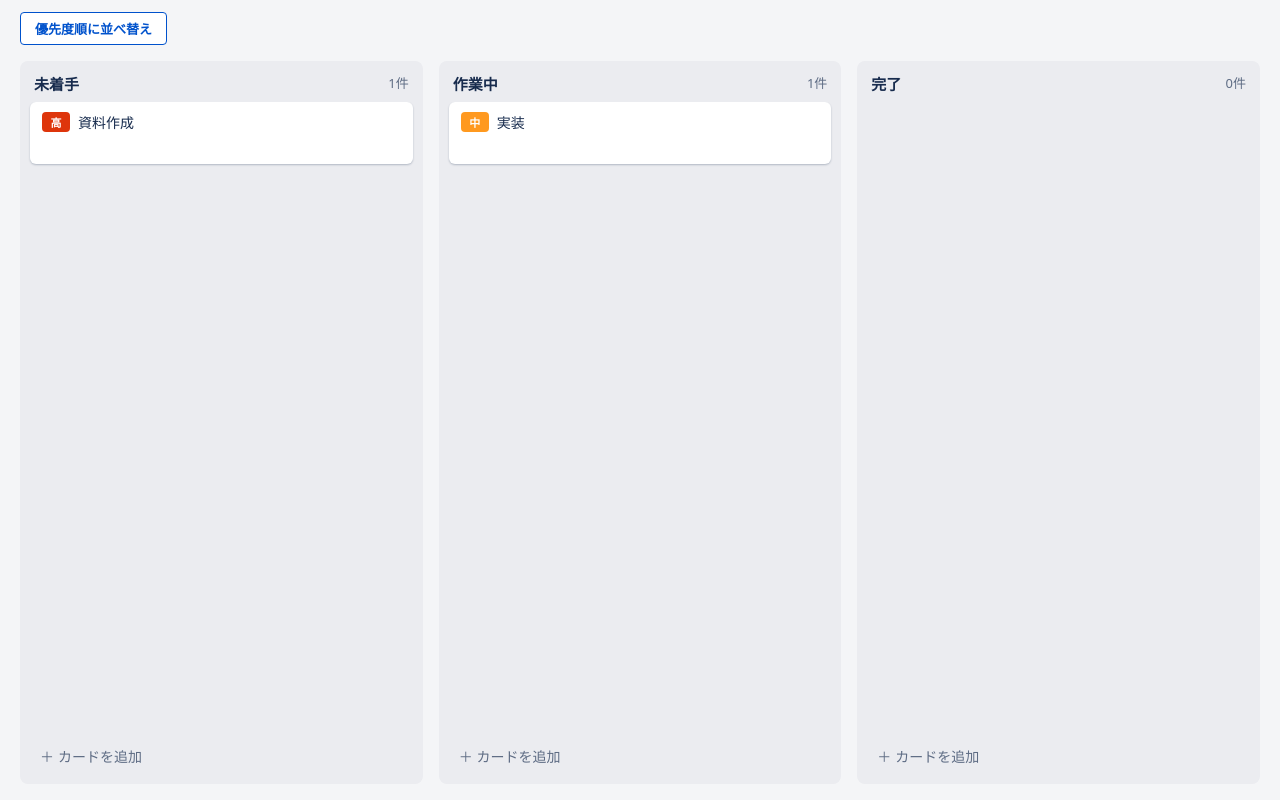
Test case: Board › カードをクリックすると詳細が開き、優先度を変えると PUT のあとにそのリストを取り直す
Click the button "高 資料作成": (106, 122) [30,102,413,164]
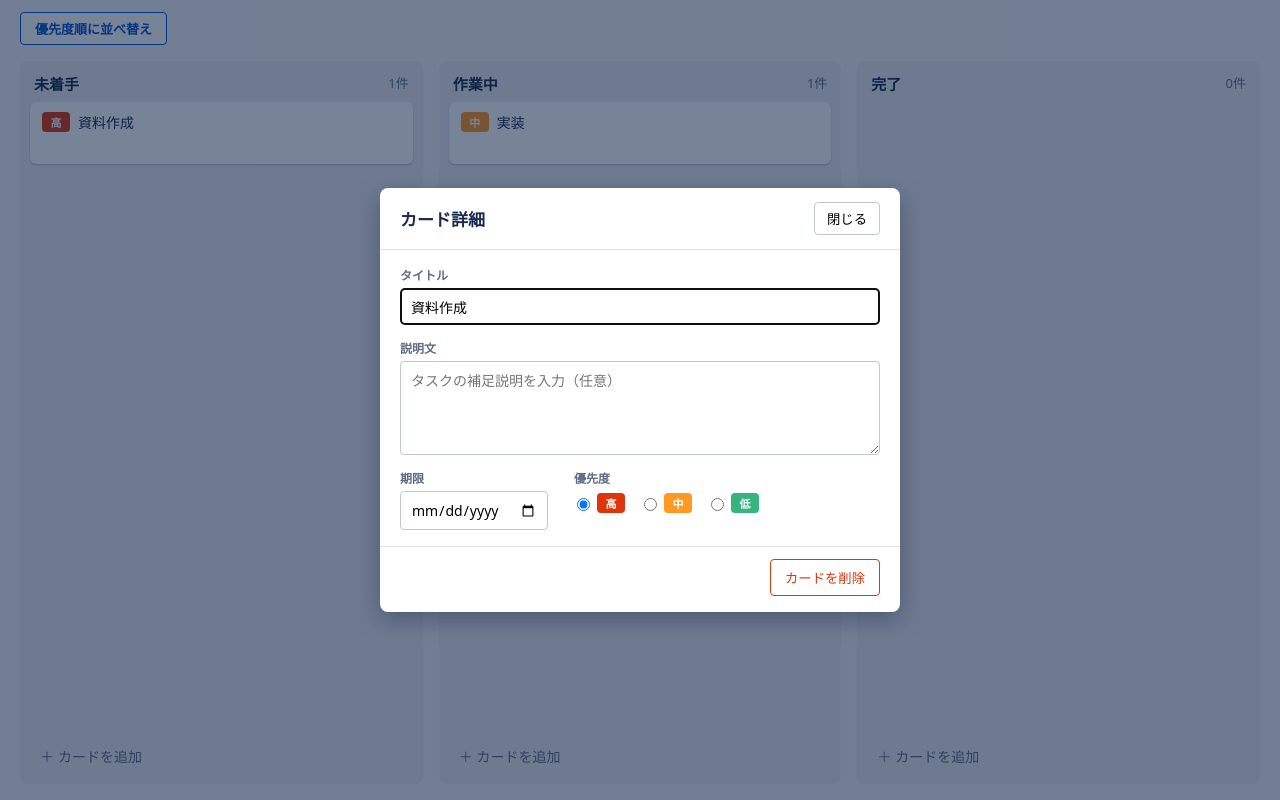
Check: the field labelled "タイトル" holds "資料作成", box [400,288,880,325]
Click the radio button labelled "低": (718, 504) [711,498,724,511]
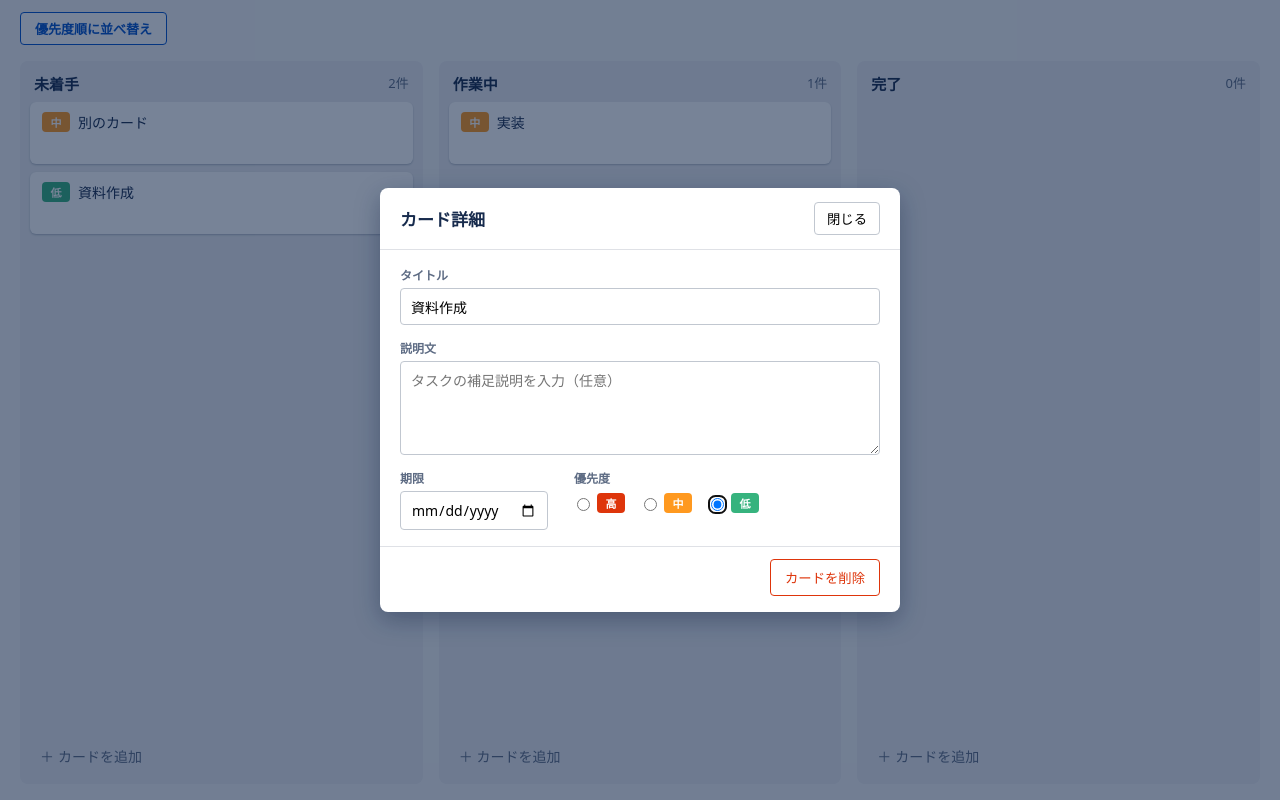
Check: the text "別のカード" is shown, box [78,112,148,132]
Check: the text "2件" is shown, box [388,73,409,94]
// 閉じるとボードだけになる
Click the button "閉じる": (847, 218) [814,202,880,235]
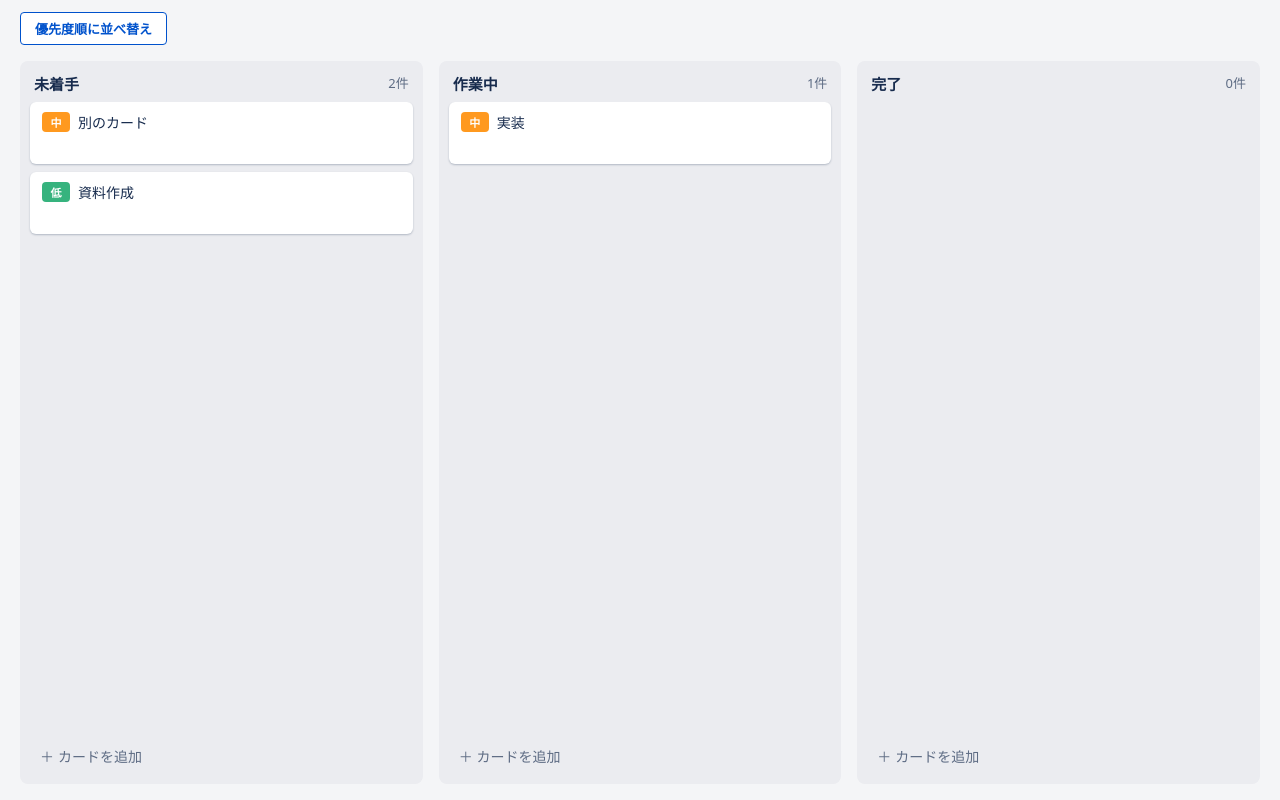
Check: the text "作業中" is shown, box [453,73,498,94]
Check: the dialog is gone
